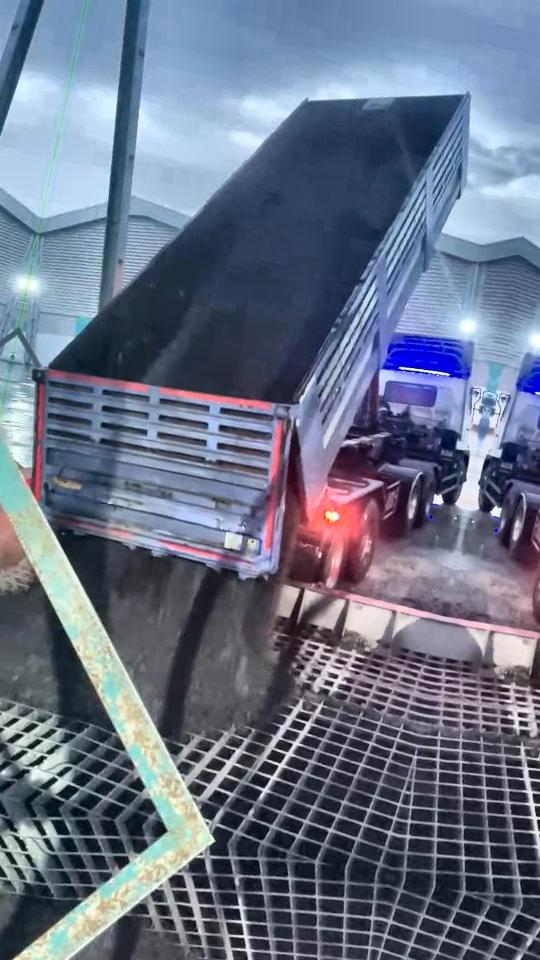gravel: (159, 117, 412, 403), (62, 534, 300, 738), (0, 583, 116, 729), (303, 688, 422, 736), (332, 631, 375, 652)
